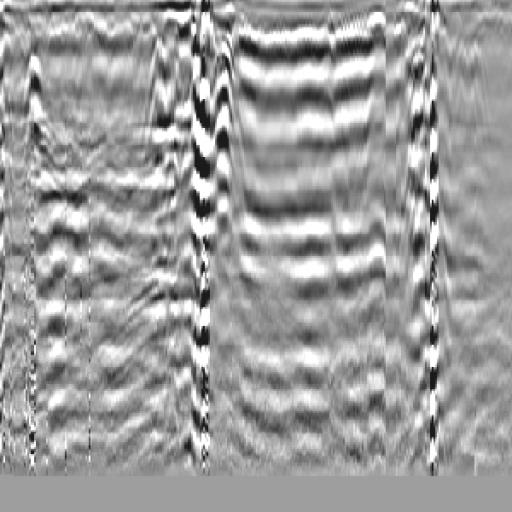non-metallic: (202, 32, 257, 237), (14, 50, 64, 168)
